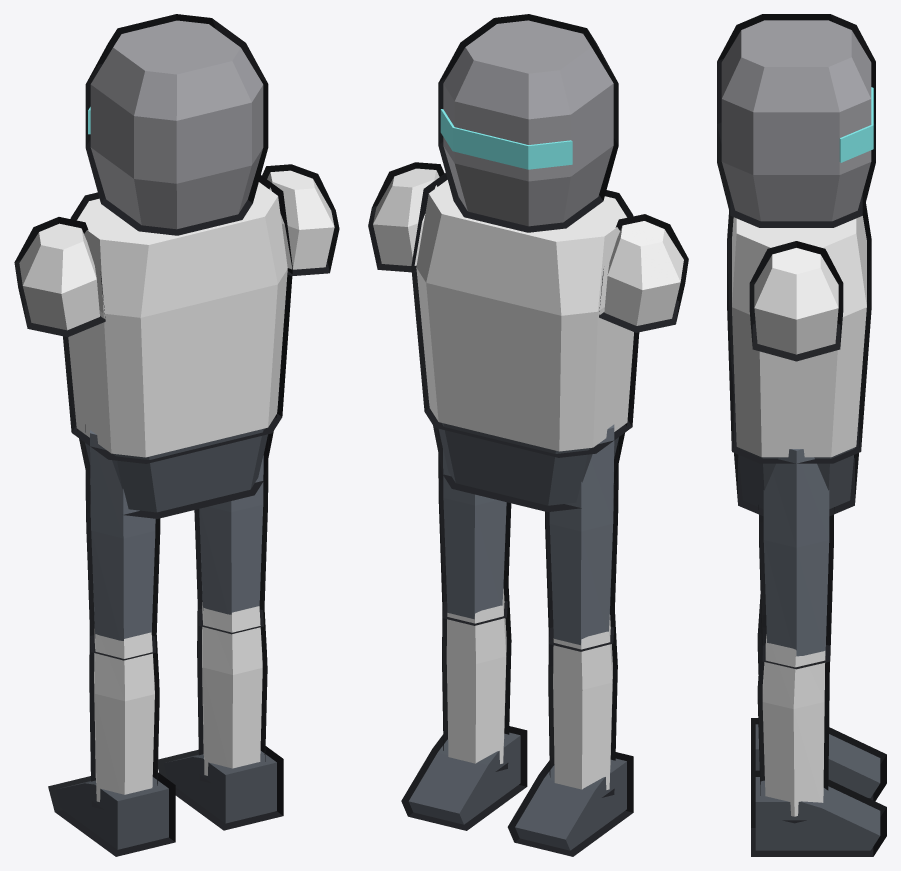
File: SIMPLE.gltf
The picture shows the model from 3 angles, left to right: view 1: azimuth 30°, elevation 25°; view 2: azimuth 150°, elevation 25°; view 3: azimuth 270°, elevation 25°; orthographic projection.
Visible parts, largest first — view 1: anim_torso, anim_head, anim_thigh_l, anim_shin_l, anim_shin_r, anim_pelvis, anim_thigh_r, anim_foot_l, anim_foot_r; view 2: anim_torso, anim_head, anim_thigh_l, anim_shin_l, anim_shin_r, anim_pelvis, anim_thigh_r, anim_foot_r, anim_foot_l; view 3: anim_torso, anim_head, anim_thigh_r, anim_shin_r, anim_foot_r, anim_pelvis, anim_foot_l.
Boxes of the visible parts, x1=… form: anim_torso: x1=14, y1=164, x2=339, y2=463; anim_head: x1=85, y1=14, x2=268, y2=235; anim_thigh_l: x1=85, y1=424, x2=160, y2=660; anim_shin_l: x1=89, y1=604, x2=159, y2=809; anim_shin_r: x1=197, y1=578, x2=267, y2=783; anim_pelvis: x1=71, y1=385, x2=282, y2=518; anim_thigh_r: x1=194, y1=434, x2=268, y2=634; anim_foot_l: x1=48, y1=769, x2=175, y2=856; anim_foot_r: x1=158, y1=742, x2=283, y2=830; anim_torso: x1=368, y1=162, x2=688, y2=457; anim_head: x1=438, y1=14, x2=618, y2=232; anim_thigh_l: x1=545, y1=424, x2=618, y2=651; anim_shin_l: x1=548, y1=596, x2=617, y2=797; anim_shin_r: x1=442, y1=570, x2=511, y2=771; anim_pelvis: x1=424, y1=380, x2=632, y2=512; anim_thigh_r: x1=438, y1=431, x2=511, y2=625; anim_foot_r: x1=401, y1=726, x2=527, y2=830; anim_foot_l: x1=507, y1=752, x2=633, y2=856; anim_torso: x1=727, y1=203, x2=871, y2=463; anim_head: x1=717, y1=14, x2=875, y2=227; anim_thigh_r: x1=758, y1=449, x2=834, y2=669; anim_shin_r: x1=757, y1=614, x2=830, y2=823; anim_foot_r: x1=751, y1=770, x2=886, y2=856; anim_pelvis: x1=731, y1=359, x2=861, y2=516; anim_foot_l: x1=751, y1=718, x2=886, y2=801.
Size of the model in its own units: 0.766 by 1.79 by 0.355.
